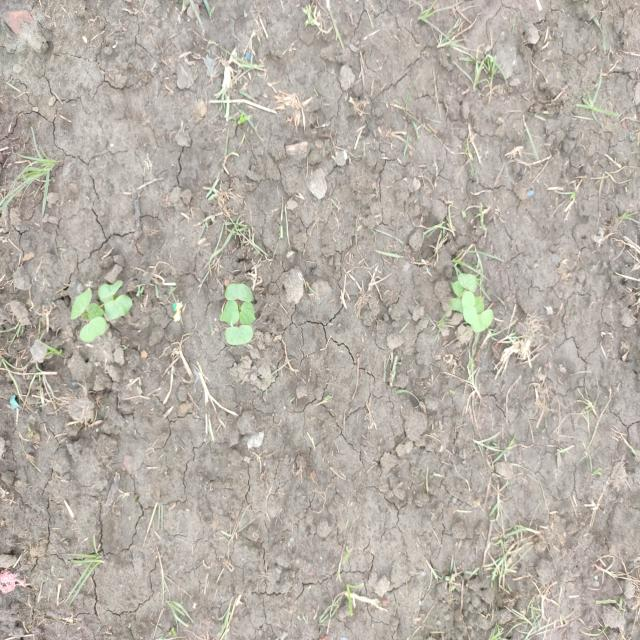seedling_s4: (104, 294, 133, 320), (80, 316, 107, 342), (71, 289, 92, 320), (225, 325, 253, 345), (225, 283, 252, 302), (462, 290, 477, 324), (471, 309, 493, 332), (219, 300, 239, 324), (98, 280, 123, 299), (239, 301, 256, 325), (458, 273, 477, 292), (87, 303, 105, 321), (451, 280, 465, 297), (450, 298, 463, 313), (474, 295, 484, 313)
